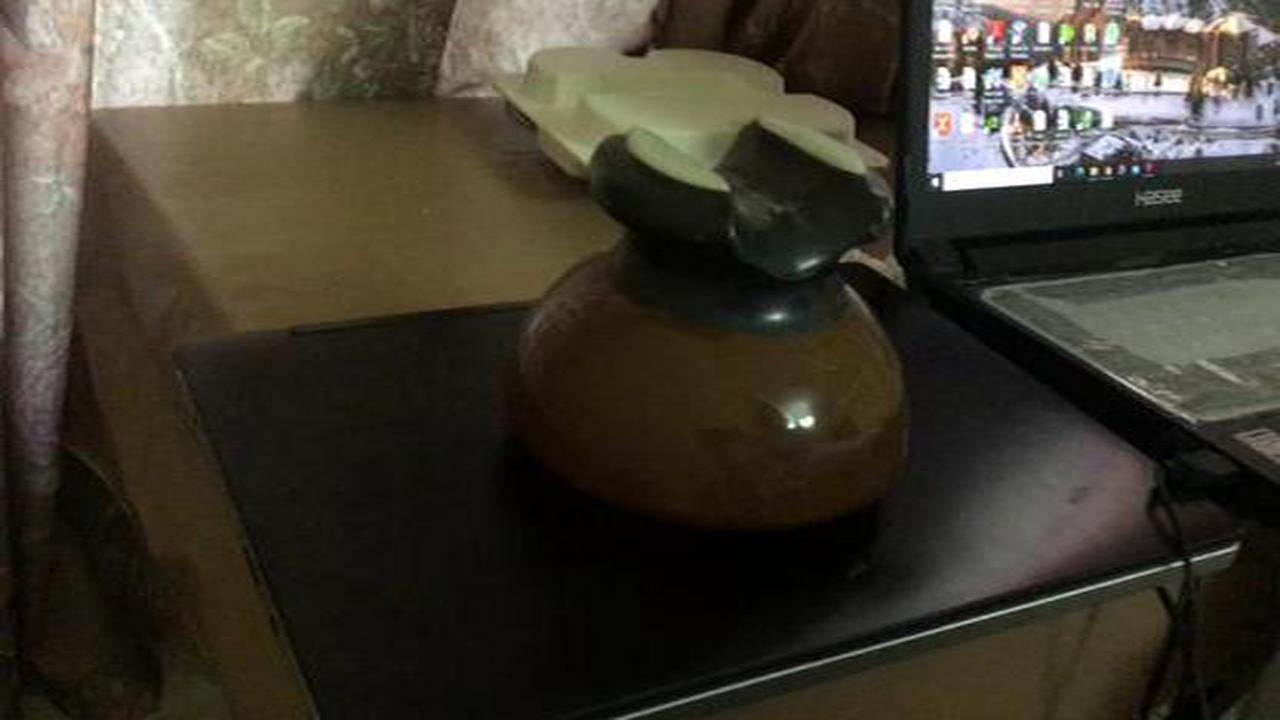insulator_pin: (499, 102, 948, 561)
